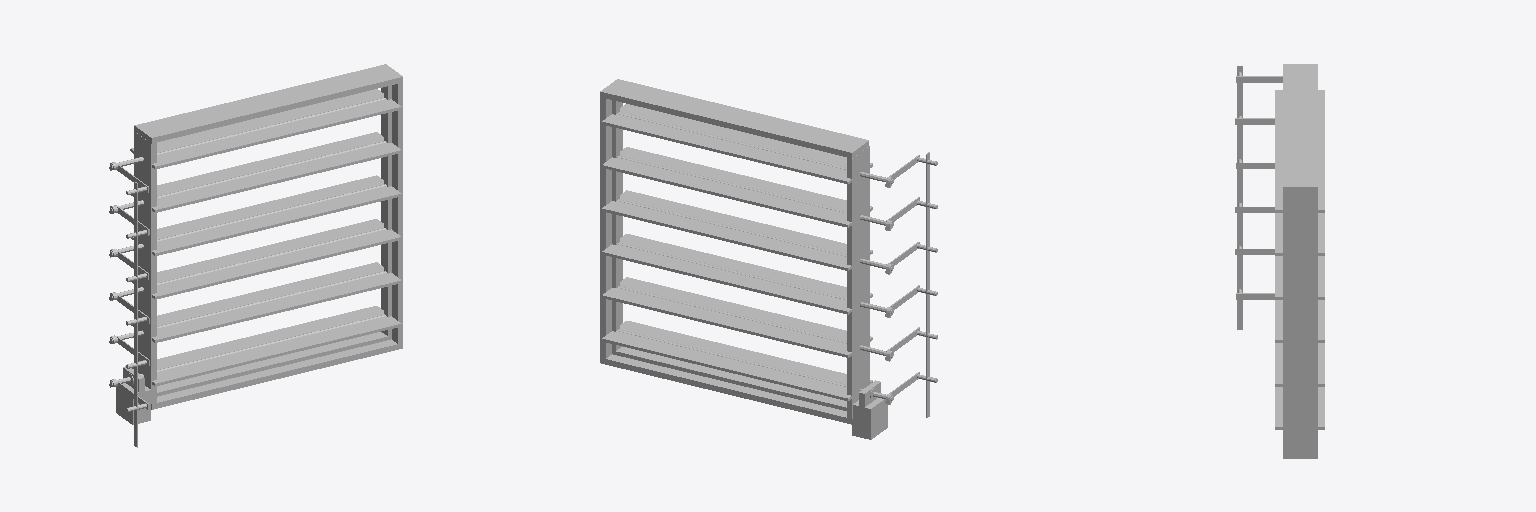
Rendered from HVACPIstonGate.obj.
3 views of the same model, side by side, from view 1: azimuth 30°, elevation 25°; view 2: azimuth 150°, elevation 25°; view 3: azimuth 270°, elevation 25° (orthographic).
Visible parts, largest first — view 1: HVACPIstonGate.obj; view 2: HVACPIstonGate.obj; view 3: HVACPIstonGate.obj.
Part boxes in pixels (x1,y1,x2,y2): HVACPIstonGate.obj: (109, 64, 402, 447); HVACPIstonGate.obj: (600, 79, 937, 439); HVACPIstonGate.obj: (1235, 64, 1324, 458).
Bounding box in the file's own units: 1.39 × 1.27 × 0.366.